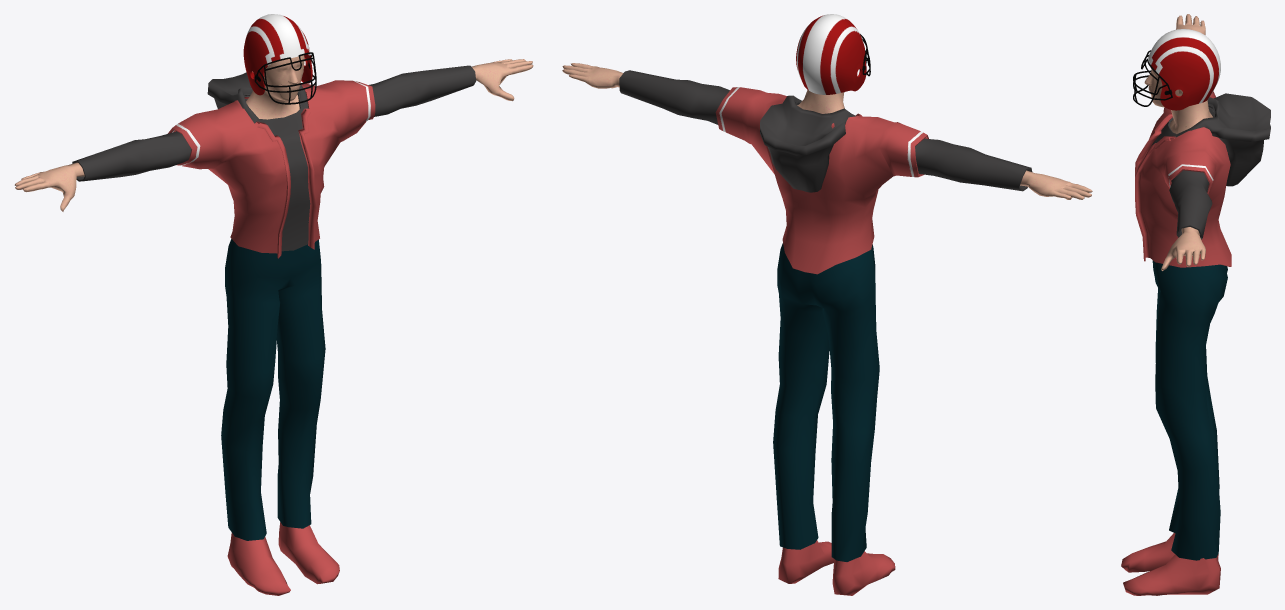
The model's file is dave_export_with_thickness_2 (1).fbx.
3 renders of one model, left to right at view 1: azimuth 30°, elevation 25°; view 2: azimuth 150°, elevation 25°; view 3: azimuth 270°, elevation 25°, orthographic. The views are drawn at different scales.
Visible parts, largest first — view 1: group4, group1, hoodie_export_fixed:Object002, DAVE, helmet_export_2:football_helmet; view 2: group4, group1, hoodie_export_fixed:Object002, helmet_export_2:football_helmet, DAVE; view 3: group4, group1, hoodie_export_fixed:Object002, helmet_export_2:football_helmet, DAVE.
Boxes of the visible parts, <box> form: group4: <box>221,239,339,595</box>; group1: <box>167,80,375,258</box>; hoodie_export_fixed:Object002: <box>72,65,476,251</box>; DAVE: <box>14,55,533,211</box>; helmet_export_2:football_helmet: <box>243,14,316,104</box>; group4: <box>773,243,895,595</box>; group1: <box>715,87,928,274</box>; hoodie_export_fixed:Object002: <box>619,70,1032,192</box>; helmet_export_2:football_helmet: <box>796,14,870,94</box>; DAVE: <box>562,63,1092,199</box>; group4: <box>1121,260,1227,595</box>; group1: <box>1135,91,1231,267</box>; hoodie_export_fixed:Object002: <box>1151,93,1270,239</box>; helmet_export_2:football_helmet: <box>1133,29,1220,110</box>; DAVE: <box>1144,14,1212,270</box>.
Bounding box in the file's own units: 165 × 168 × 41.66.
Materials: 5 (5 with a texture image).
